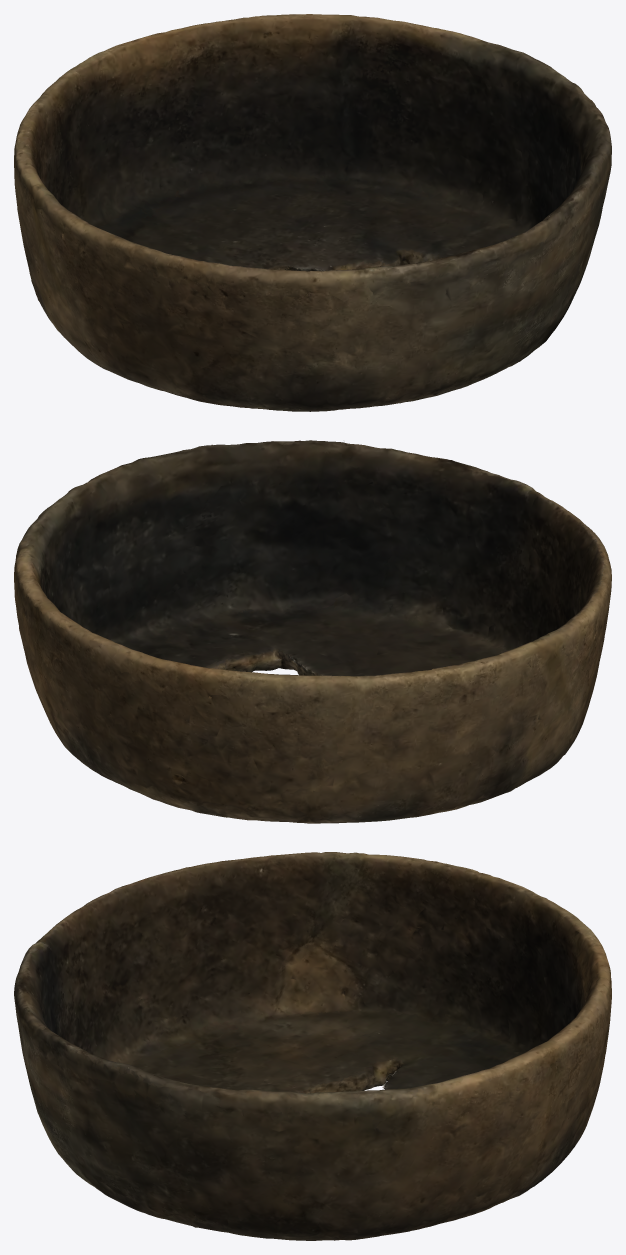
3 views of the same model, one above another, from view 1: azimuth 30°, elevation 25°; view 2: azimuth 150°, elevation 25°; view 3: azimuth 270°, elevation 25° (orthographic).
Parts seen in each view (by area): view 1: Mesh_0.018; view 2: Mesh_0.018; view 3: Mesh_0.018.
Part boxes in pixels (left/top/right/bottom): Mesh_0.018: left=14, top=14, right=611, bottom=411; Mesh_0.018: left=14, top=440, right=611, bottom=823; Mesh_0.018: left=14, top=852, right=611, bottom=1240.
Size of the model in its own units: 0.2019 by 0.0665 by 0.2007.
1 material, 1 textured.
